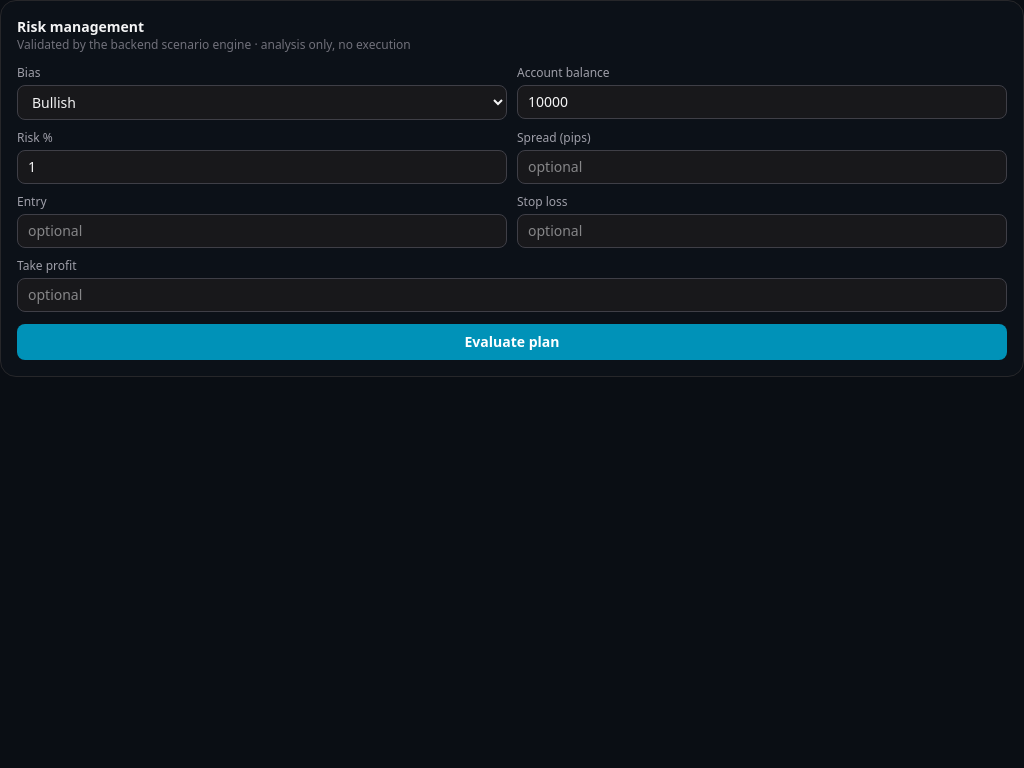
Test: RiskPanel › renders only numbers the backend returned (missing → em dash)
Click the button with test id "compute-plan" at (512, 342), box [17,324,1007,360]
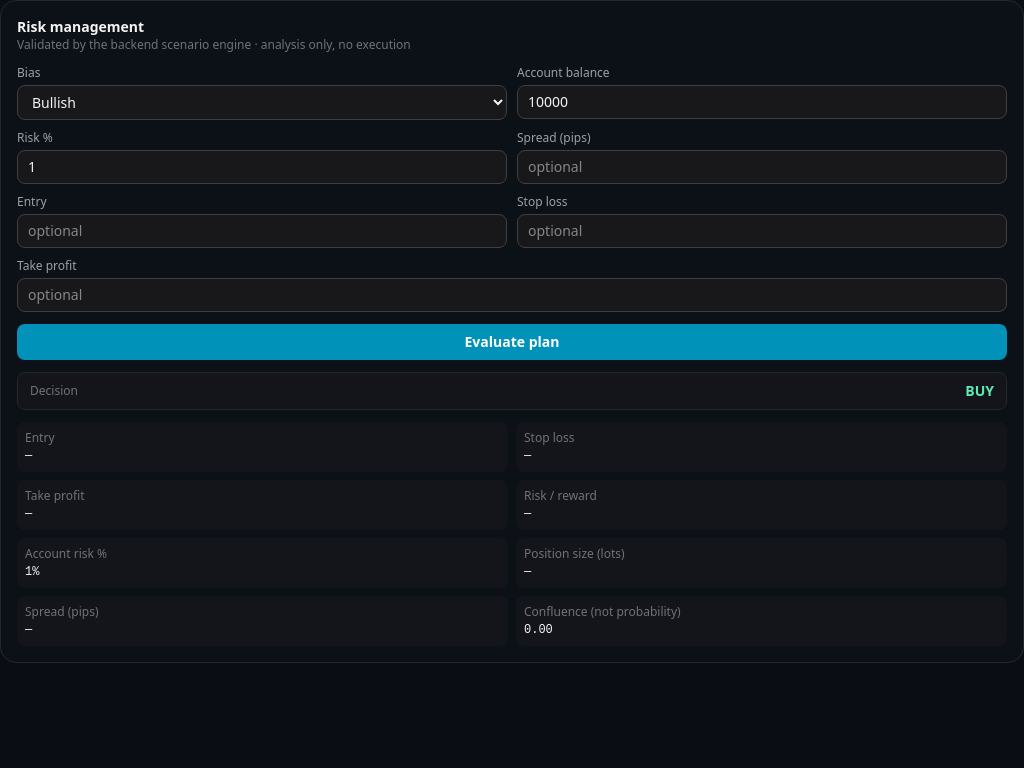
Expected: the text with test id "plan-entry" reads "—", [25,449,32,463]
Now the element with test id "risk-result" is shown, box [17,372,1007,646]
